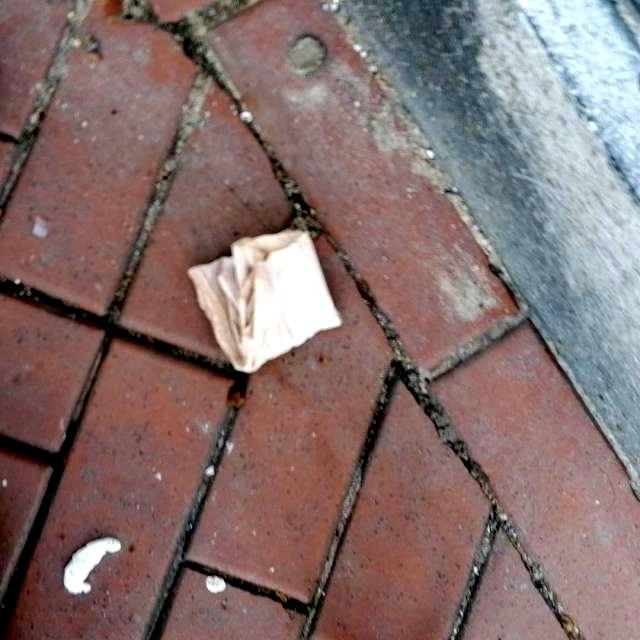Paper: (178, 226, 346, 374)
